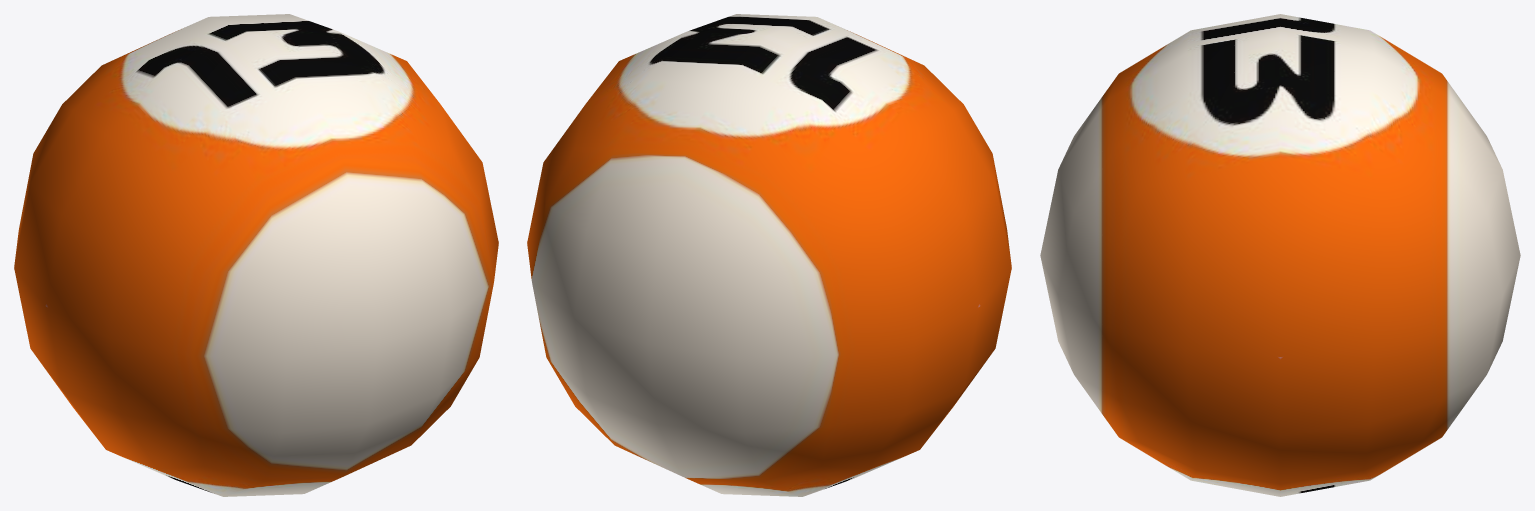
Rendered from ball_13.fbx.
The picture shows the model from 3 angles, left to right: view 1: azimuth 30°, elevation 25°; view 2: azimuth 150°, elevation 25°; view 3: azimuth 270°, elevation 25°; orthographic projection.
Visible parts, largest first — view 1: BilliardBall.013; view 2: BilliardBall.013; view 3: BilliardBall.013.
Part boxes in pixels (<box>): BilliardBall.013: <box>14,14,498,496</box>; BilliardBall.013: <box>527,14,1011,496</box>; BilliardBall.013: <box>1040,14,1520,496</box>.
Size of the model in its own units: 0.0753 by 0.0753 by 0.0753.
